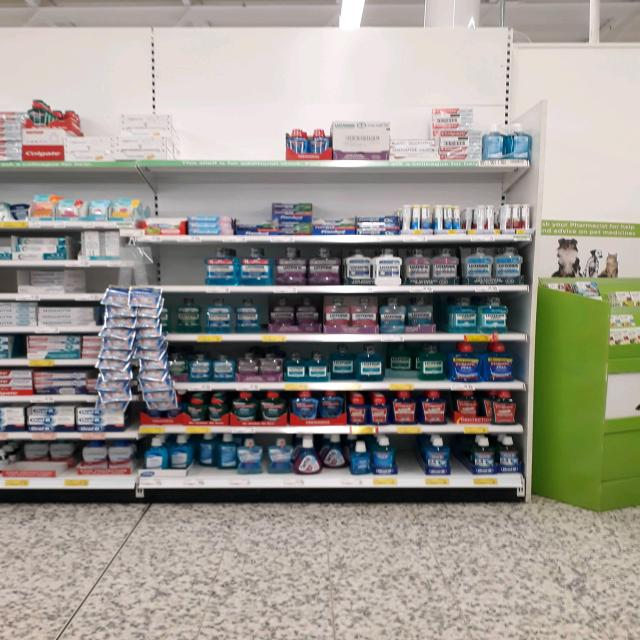empty: (182, 137, 285, 161), (158, 255, 205, 285), (397, 437, 418, 473), (451, 438, 468, 476), (86, 270, 112, 291)
